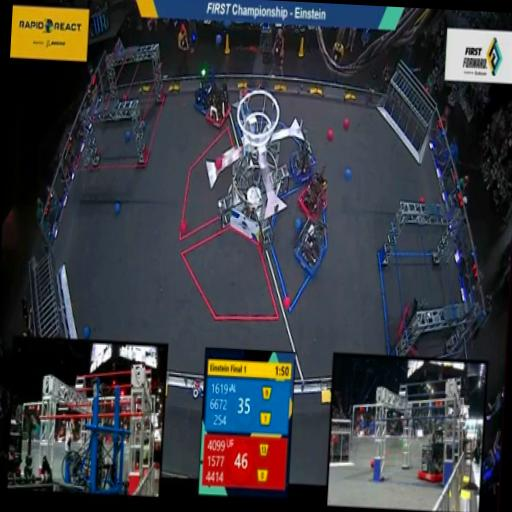robot: (392, 295, 434, 355), (290, 220, 332, 278), (284, 122, 318, 186), (296, 167, 332, 226), (186, 58, 216, 114), (204, 77, 234, 129)
